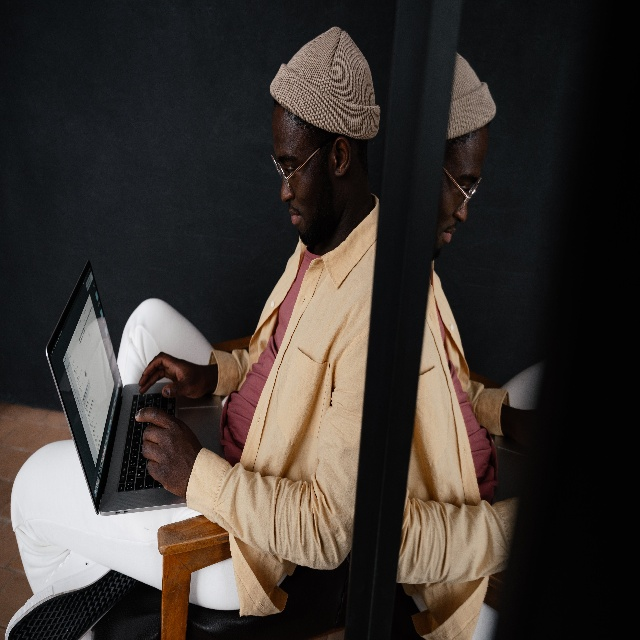Gafas: (270, 137, 331, 191), (437, 158, 489, 209)
Sin_guantes: (134, 406, 202, 499), (138, 350, 216, 399)
